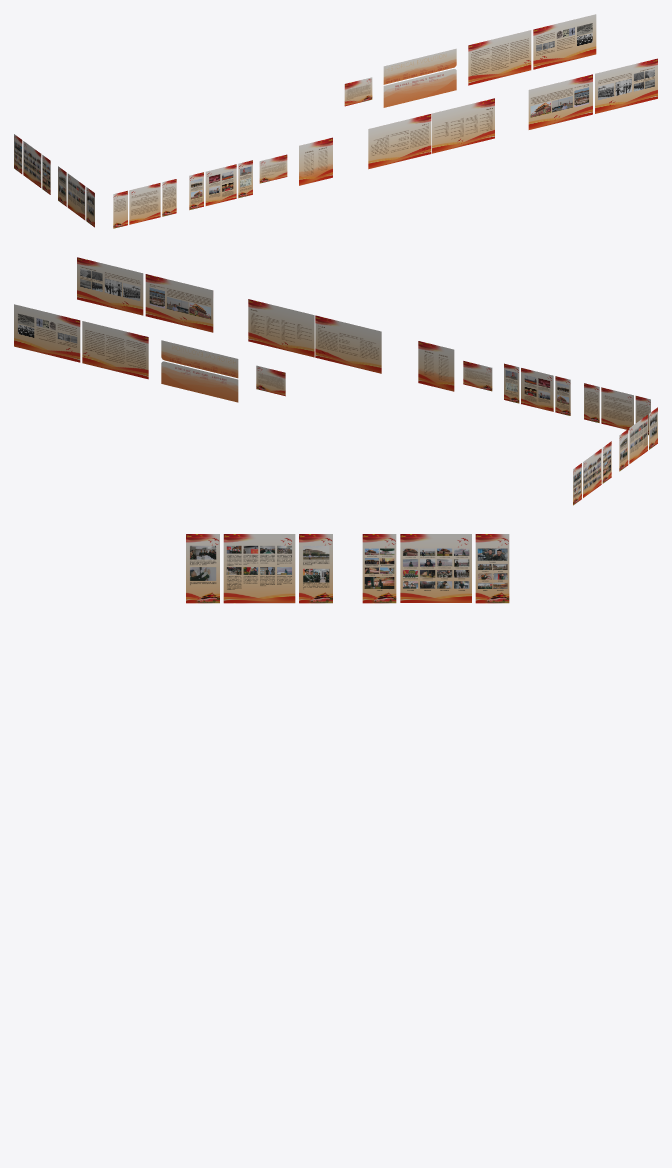
3 views of the same model, one above another, from view 1: azimuth 30°, elevation 25°; view 2: azimuth 150°, elevation 25°; view 3: azimuth 270°, elevation 25° (orthographic). The views are drawn at different scales.
Parts seen in each view (by area): view 1: 2中队_发展历程04, 2中队_发展历程01, 2中队_发展历程02, 2中队_历史荣誉02, 2中队_历史荣誉01, 2中队_发展历程03, 2中队_历史沿革下, 2中队_历史沿革上, 2中队_历任主官, 2中队_建设成就中, 2中队_重大任务中, 2中队_军营文化中 (+7 smaller); view 2: 2中队_发展历程04, 2中队_发展历程01, 2中队_发展历程02, 2中队_历史荣誉01, 2中队_历史荣誉02, 2中队_发展历程03, 2中队_历史沿革下, 2中队_历任主官, 2中队_历史沿革上, 2中队_重大任务中, 2中队_建设成就中, 2中队_前沿 (+6 smaller); view 3: 2中队_军营文化中, 2中队_官兵风采中, 2中队_官兵风采右, 2中队_官兵风采左, 2中队_军营文化右, 2中队_军营文化左.
Part boxes in pixels (x1,y1,x2,y2): 2中队_发展历程04: (528,74,592,129); 2中队_发展历程01: (468,30,531,85); 2中队_发展历程02: (533,14,596,69); 2中队_历史荣誉02: (368,114,431,169); 2中队_历史荣誉01: (432,98,494,153); 2中队_发展历程03: (595,58,657,113); 2中队_历史沿革下: (383,69,456,107); 2中队_历史沿革上: (383,48,456,84); 2中队_历任主官: (299,137,332,185); 2中队_建设成就中: (129,183,160,224); 2中队_重大任务中: (205,164,236,205); 2中队_军营文化中: (67,173,85,220); 2中队_发展历程04: (145,274,213,332); 2中队_发展历程01: (82,321,148,379); 2中队_发展历程02: (14,304,80,362); 2中队_历史荣誉01: (248,299,314,357); 2中队_历史荣誉02: (315,315,381,373); 2中队_发展历程03: (77,257,143,315); 2中队_历史沿革下: (161,361,238,402); 2中队_历任主官: (418,341,454,391); 2中队_历史沿革上: (161,340,238,378); 2中队_重大任务中: (521,368,553,411); 2中队_建设成就中: (601,387,633,430); 2中队_前沿: (256,365,285,396); 2中队_军营文化中: (223,534,295,603); 2中队_官兵风采中: (400,534,471,602); 2中队_官兵风采右: (475,534,509,603); 2中队_官兵风采左: (362,534,396,603); 2中队_军营文化右: (299,534,332,603); 2中队_军营文化左: (186,534,219,603).
Bounding box in the file's own units: 2790 × 200 × 751.
